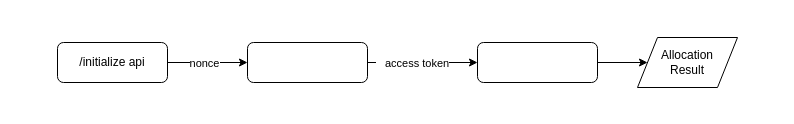
The diagram is 794 pixels wide and 124 high, and some of its shapes have lost their labels. Here are the shapes that lost their labels. From the top down, the box of each, then its label:
(246, 42, 368, 82): /authenticate api
(476, 42, 598, 82): /allocations query
